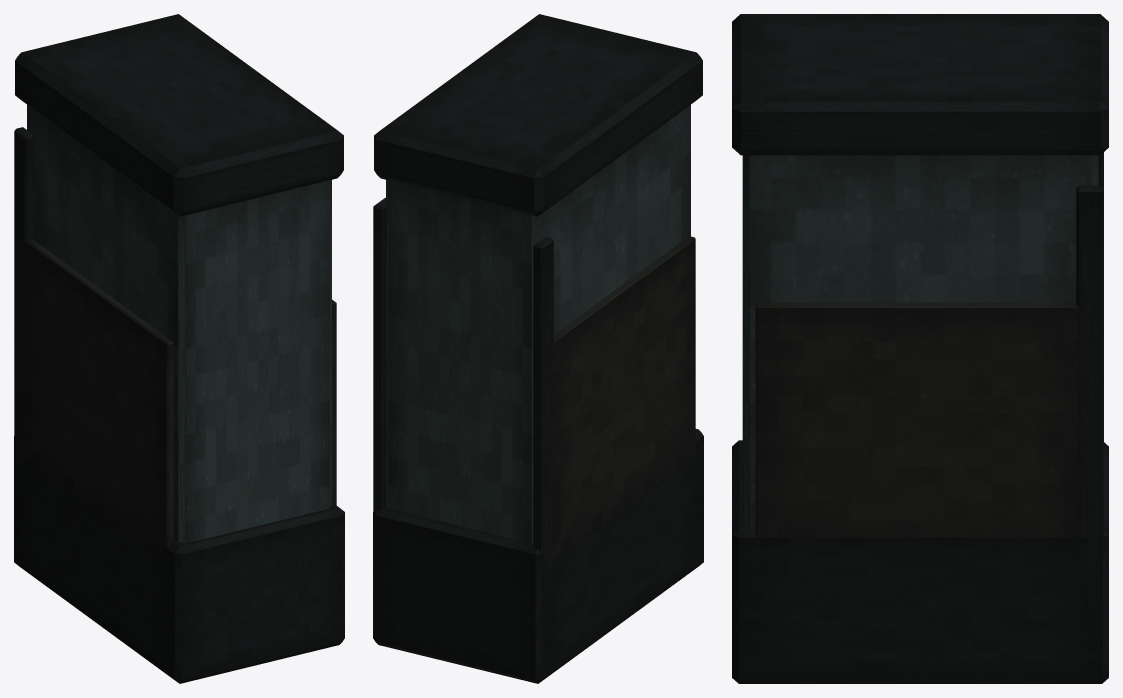
File: THStage_CentralReturn.fbx
3 views of the same model, side by side, from view 1: azimuth 30°, elevation 25°; view 2: azimuth 150°, elevation 25°; view 3: azimuth 270°, elevation 25° (orthographic). The views are drawn at different scales.
Visible parts, largest first — view 1: THStage_CentralReturn.002; view 2: THStage_CentralReturn.002; view 3: THStage_CentralReturn.002.
Part boxes in pixels (x1,y1,x2,y2): THStage_CentralReturn.002: (14, 14, 344, 683); THStage_CentralReturn.002: (373, 14, 703, 683); THStage_CentralReturn.002: (732, 14, 1108, 683).
Bounding box in the file's own units: 0.26 × 0.75 × 0.44.
Materials: 1 (1 with a texture image).
